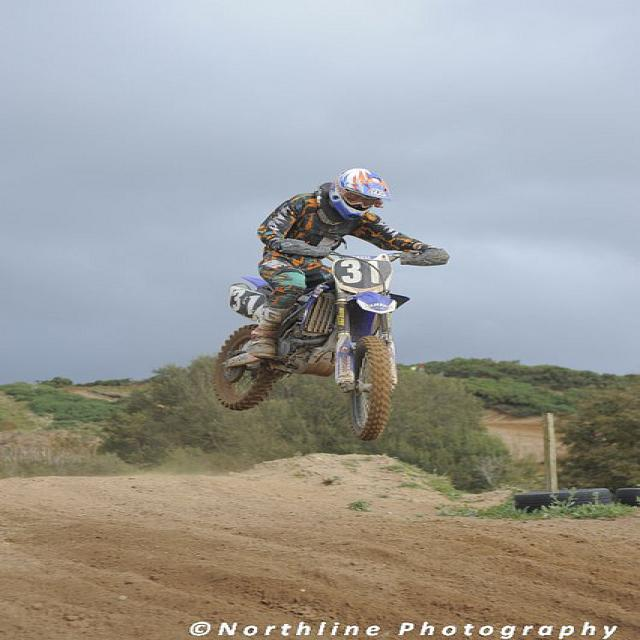motor: (207, 256, 411, 440)
